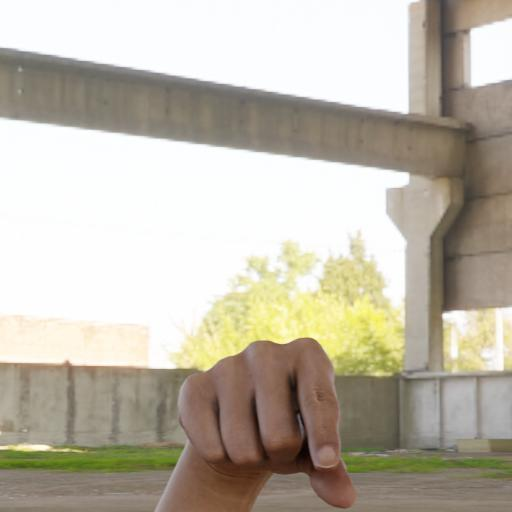Q: (174, 331, 361, 512)
